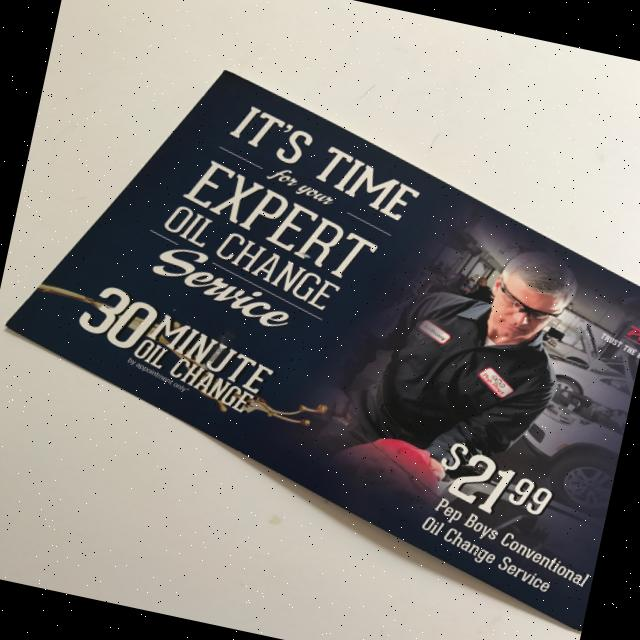paper: (0, 33, 640, 632)
